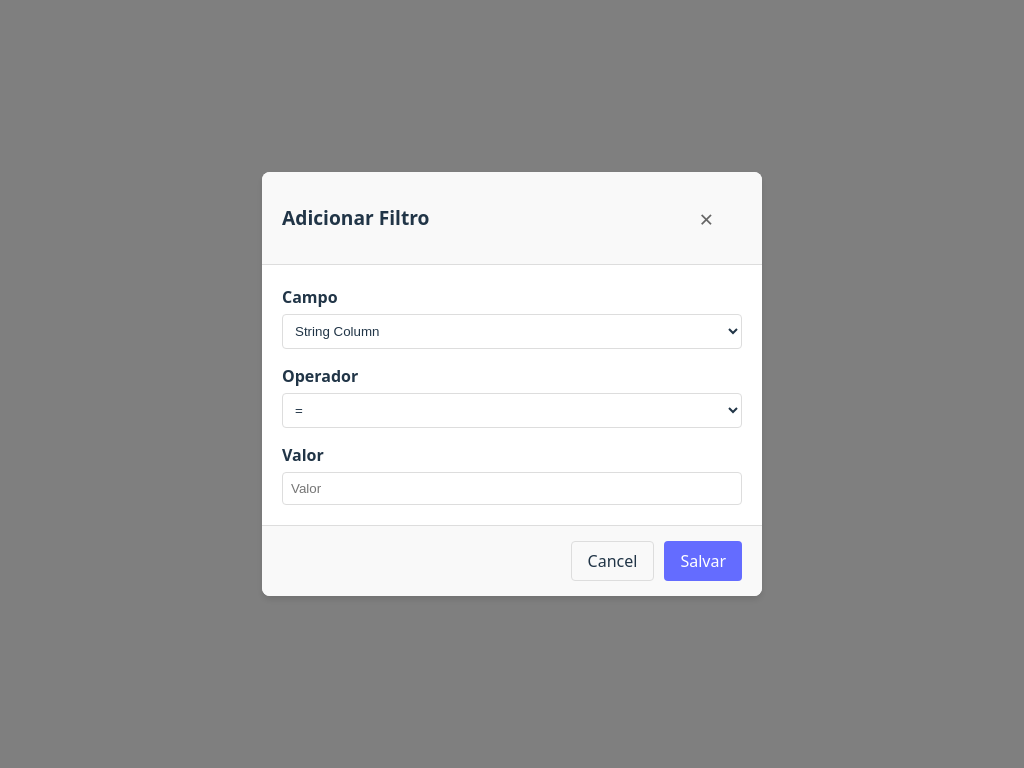
Scenario: FilterModal › should render DatePicker for Date column
The width and height of the screenshot is (1024, 768).
# Change column to date_col
Select "Date Column" in the dropdown labelled "Campo" at (512, 331), box [282,314,742,349]
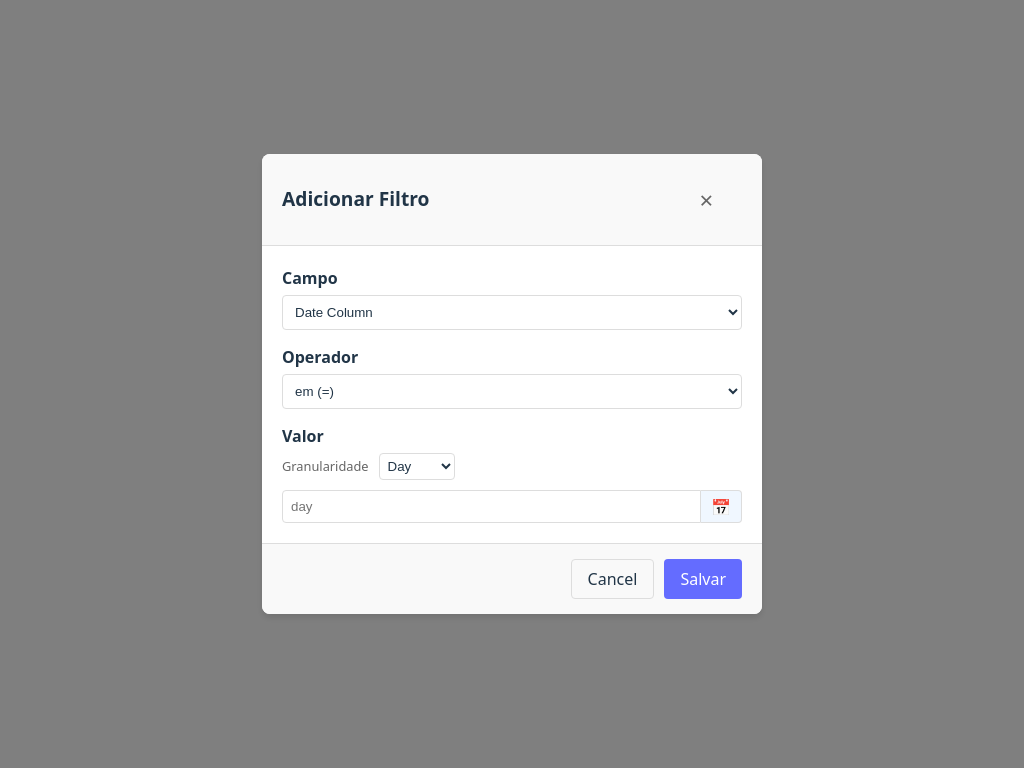
Now the field is shown, box [282,490,701,523]
Now the button "📅" is shown, box [701,490,742,523]
